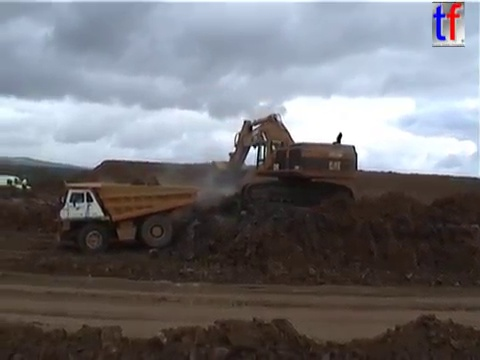excavator: (208, 111, 361, 214)
truck: (53, 178, 199, 255)
worker: (19, 175, 28, 194)
